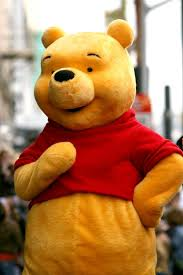Winnie: (29, 19, 157, 156)
